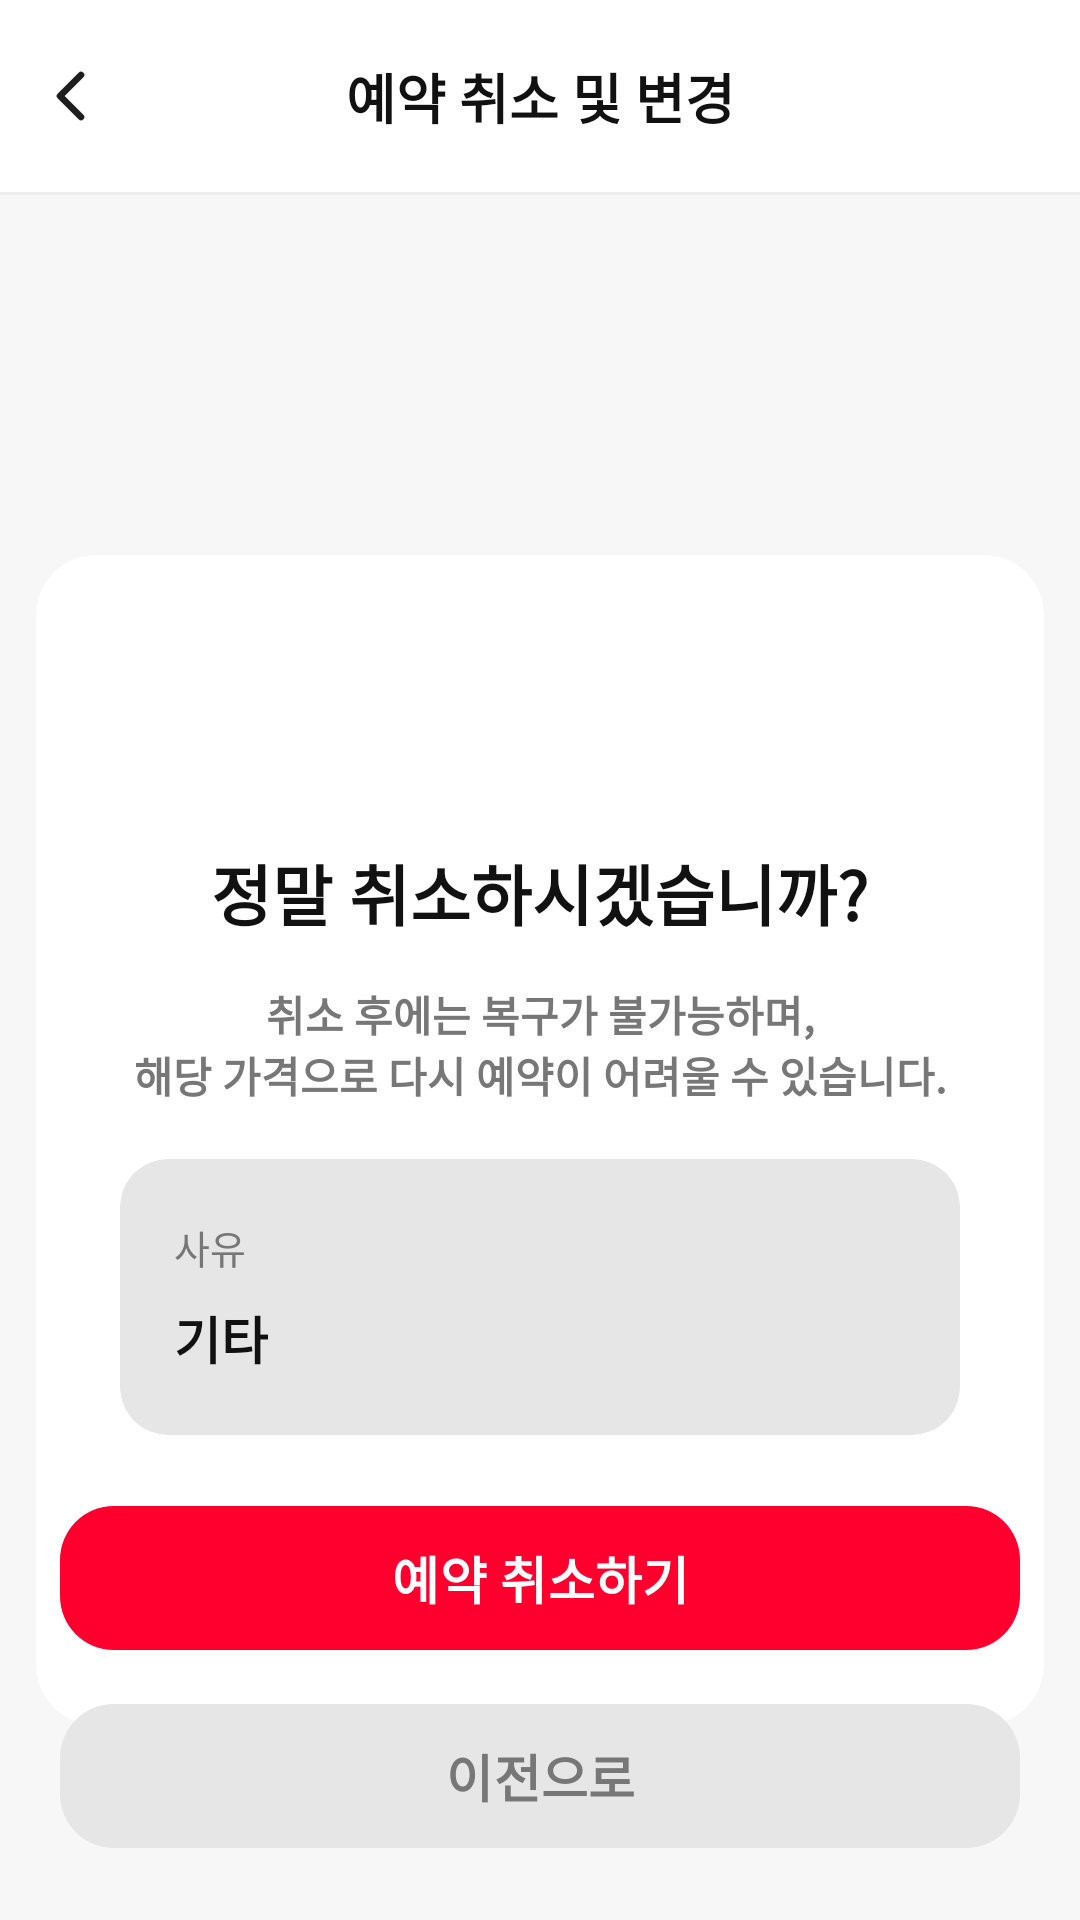

Where icons sit on this 1080×1920 app screen, as (x1, y1, x2, y2):
뒤로가기: (56, 71, 85, 121)
